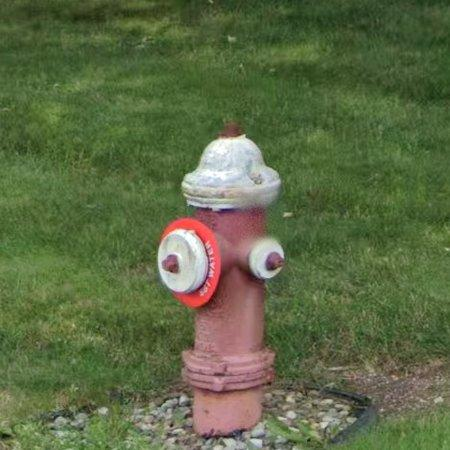a fire hydrant: (197, 209, 266, 244)
